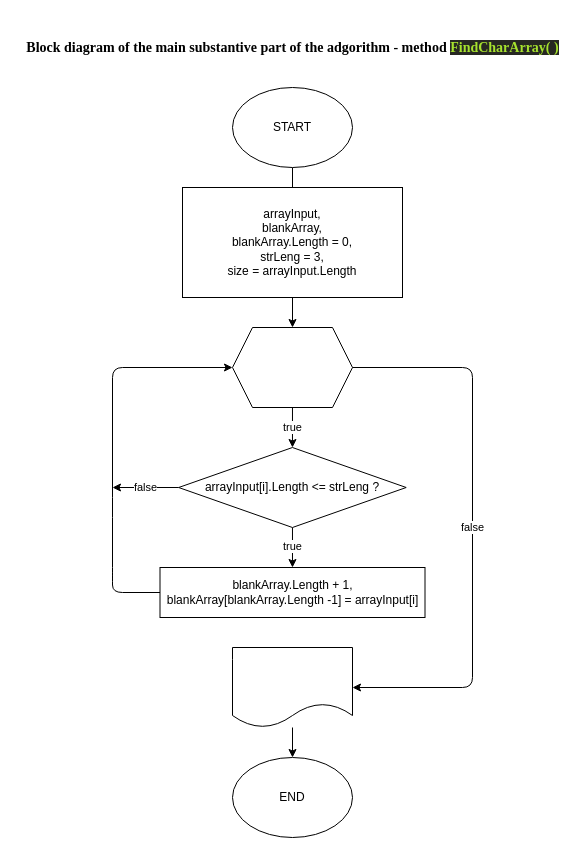
Image size: 584x855. Some labels were removed from this diagram. The centre of each missing label's shape, as x and y in pixels:
"blankArray" goes at (x=292, y=687).
"i = 0, i < size, i++" goes at (x=292, y=367).
